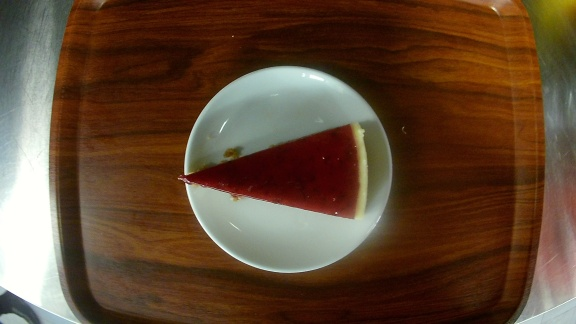frambuazlipasta: (182, 65, 394, 272)
